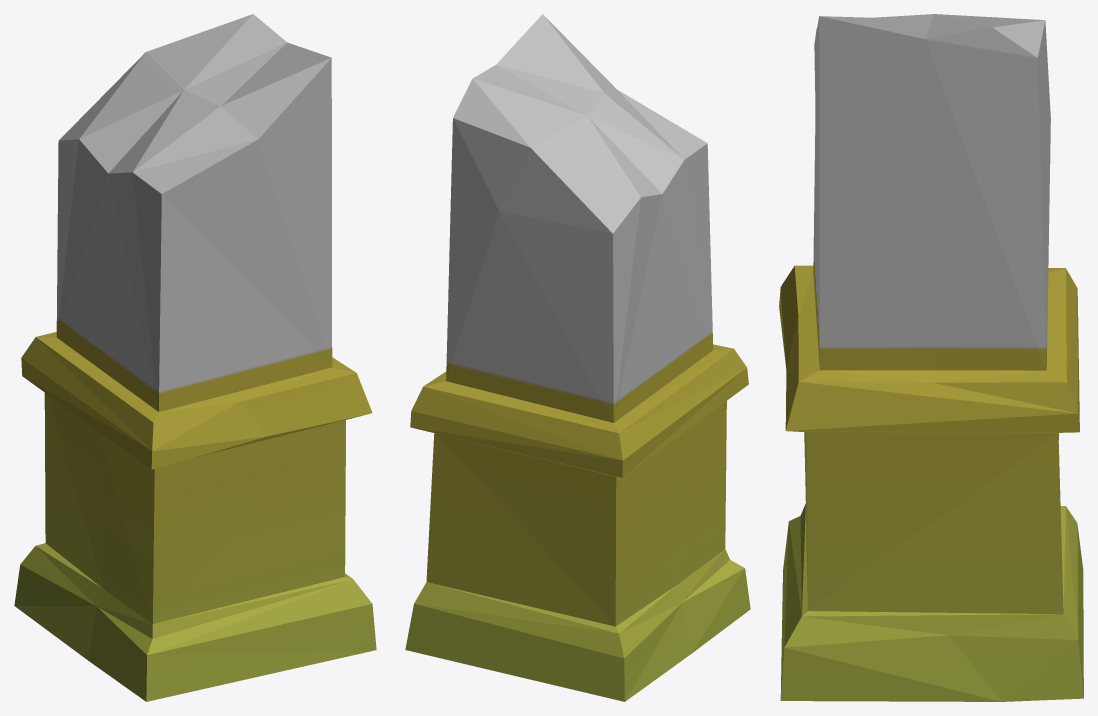
File: Ruins_03.fbx
3 views of the same model, side by side, from view 1: azimuth 30°, elevation 25°; view 2: azimuth 150°, elevation 25°; view 3: azimuth 270°, elevation 25° (orthographic). The views are drawn at different scales.
Visible parts, largest first — view 1: Ruins_03; view 2: Ruins_03; view 3: Ruins_03.
Part boxes in pixels (<box>): Ruins_03: <box>14,14,376,701</box>; Ruins_03: <box>405,14,750,701</box>; Ruins_03: <box>779,14,1083,701</box>.
Bounding box in the file's own units: 1.47 × 3.6 × 1.48.
